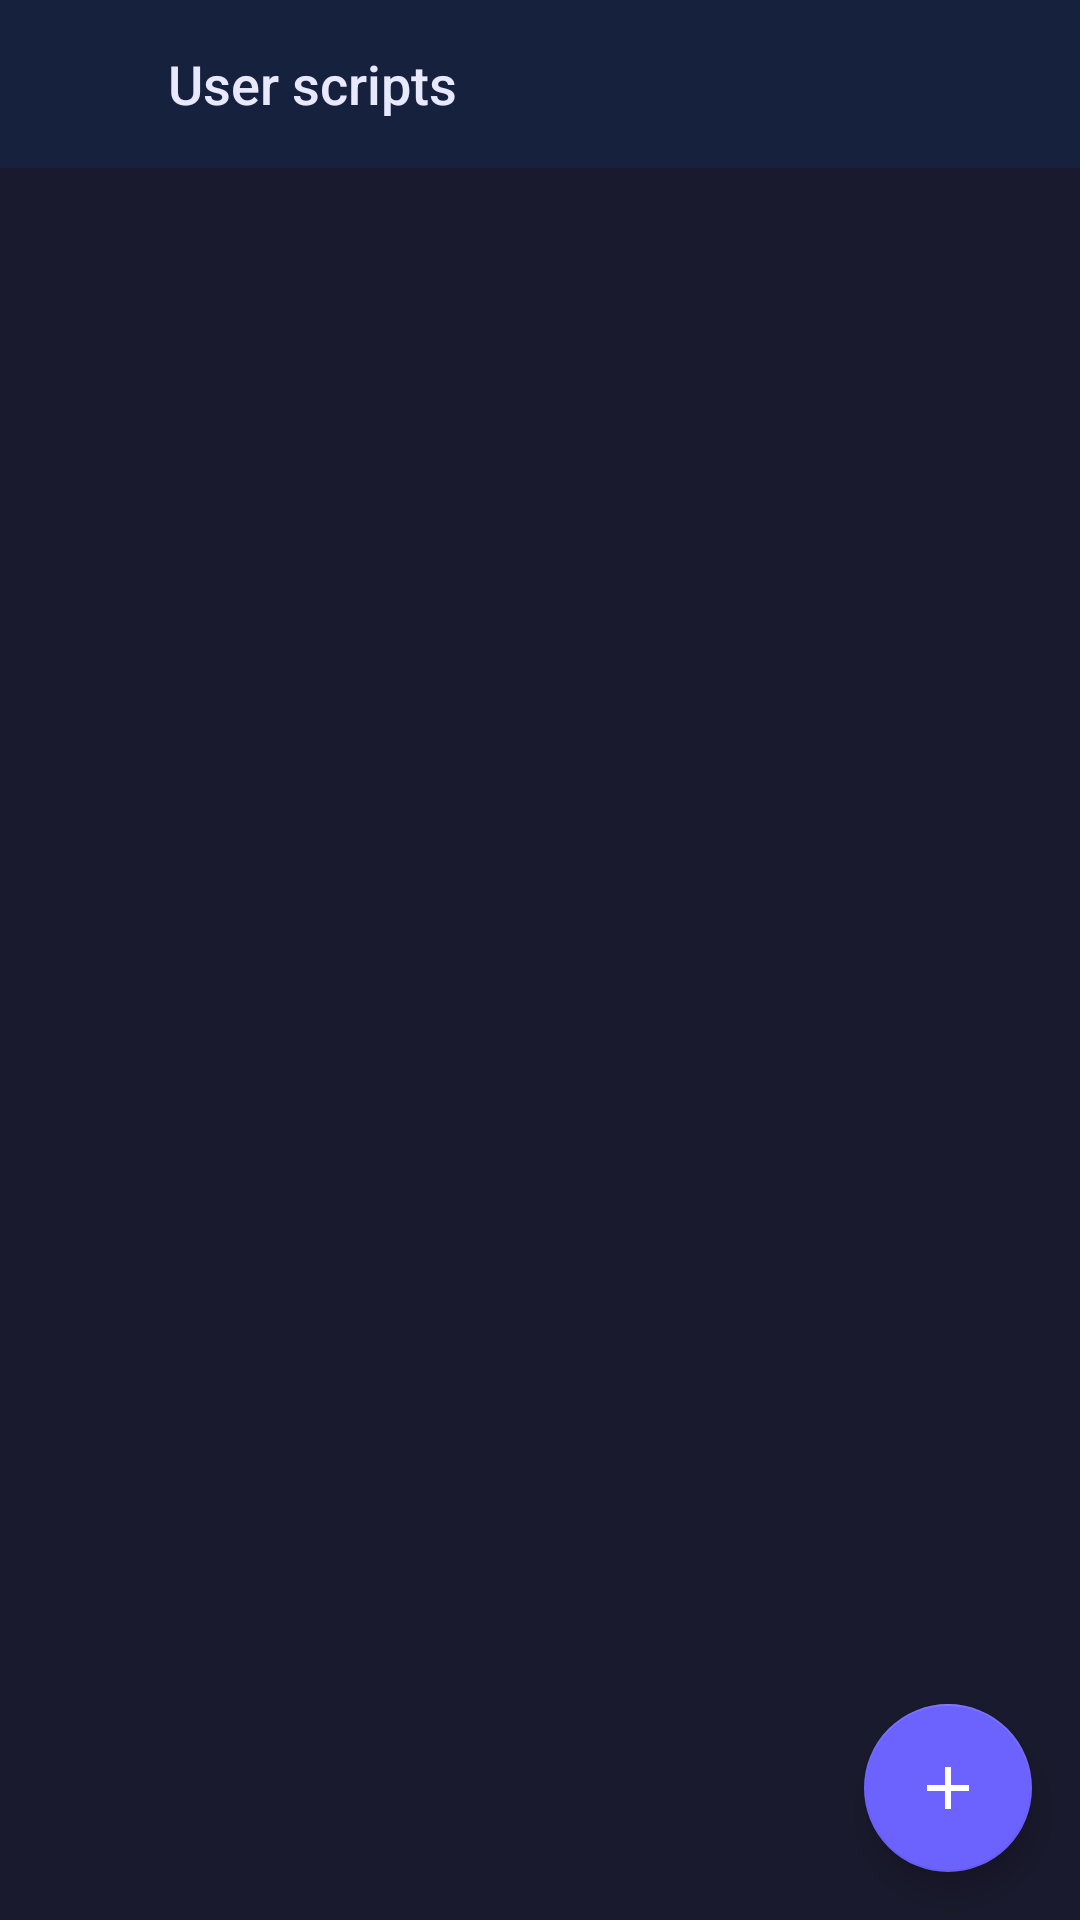

Icons on this 1080x1920 Android screen, each with its box as [x1, y1, x2, y2]:
Add script: [864, 1704, 1032, 1872]
